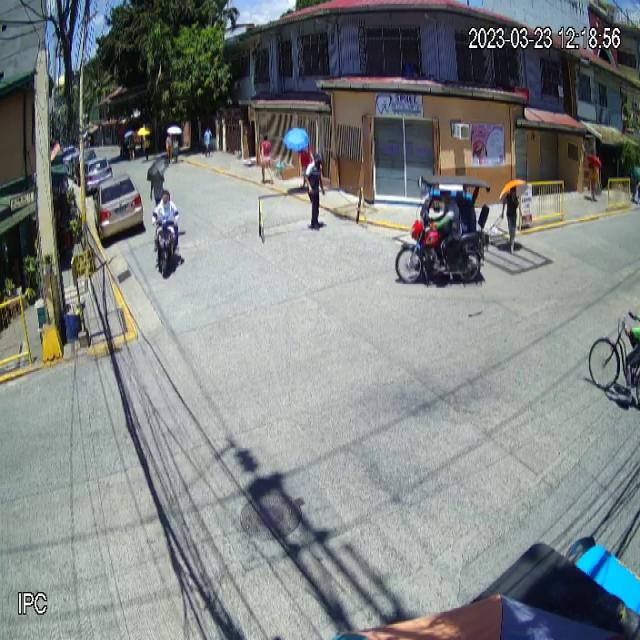Car: (93, 173, 144, 242)
Motorcycle: (151, 210, 180, 278)
Tricycle: (395, 175, 491, 290)
